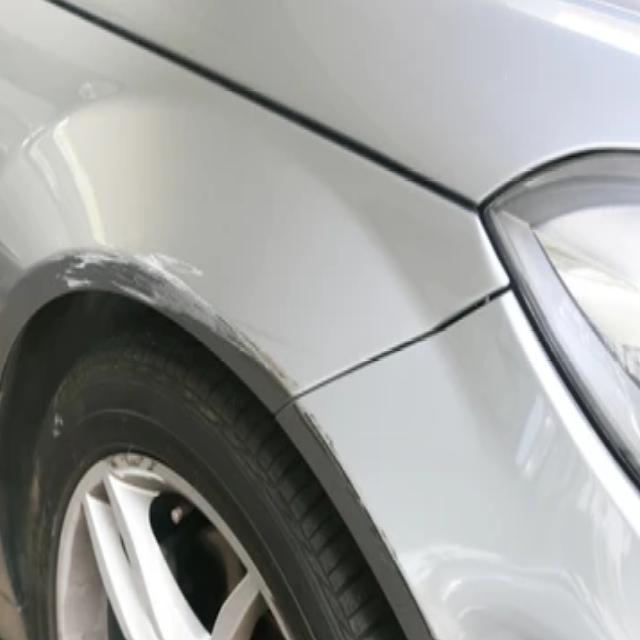scratch: (52, 225, 300, 399), (289, 397, 411, 574)
